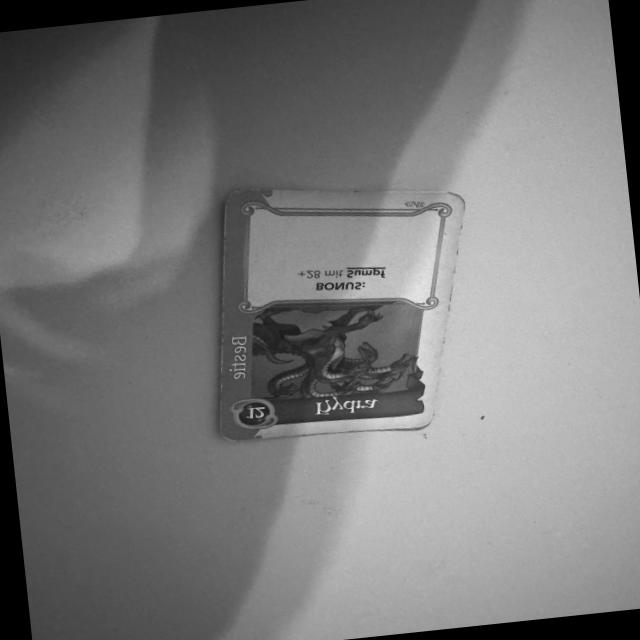Hydra: (219, 189, 469, 443)
